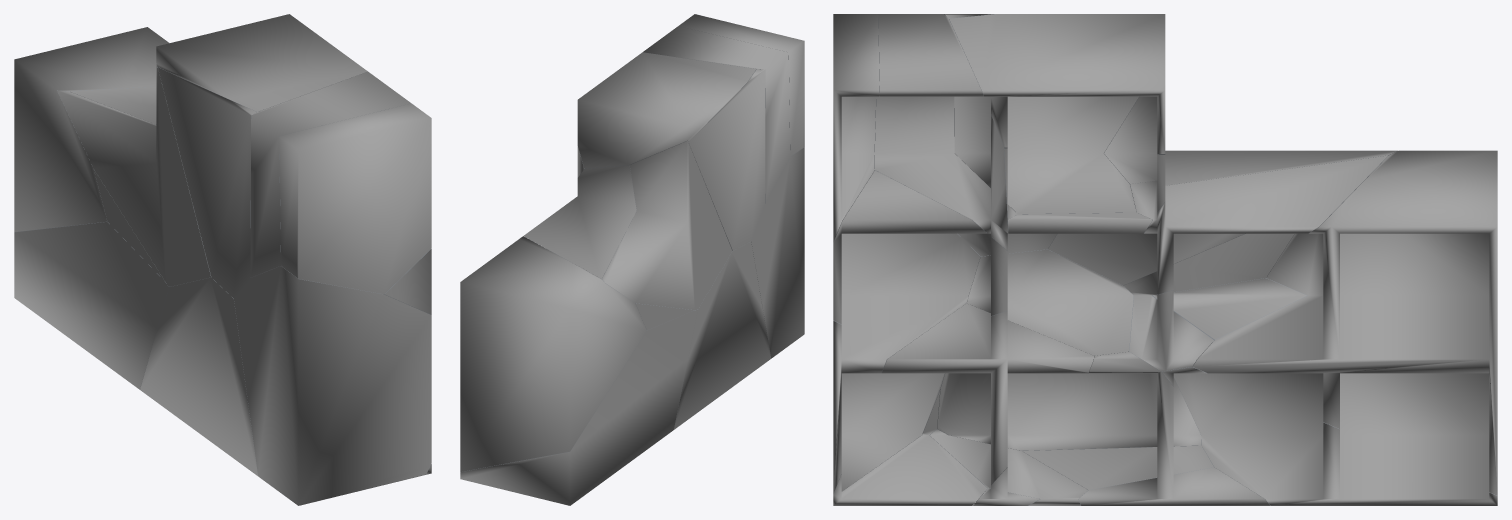
The model's file is SmallBook_Shelf_DEST.fbx.
3 renders of one model, left to right at view 1: azimuth 30°, elevation 25°; view 2: azimuth 150°, elevation 25°; view 3: azimuth 270°, elevation 25°, orthographic. The views are drawn at different scales.
Parts seen in each view (by area): view 1: mesh1329329239_cell.013, mesh1329329239_cell, mesh1329329239_cell.017, mesh1329329239_cell.010, mesh1329329239_cell.002, mesh1329329239_cell.012, mesh1329329239_cell.006, mesh1329329239_cell.011, mesh1329329239_cell.015, mesh1329329239_cell.004, mesh1329329239_cell.021, mesh1329329239_cell.009; view 2: mesh1329329239_cell.017, mesh1329329239_cell.010, mesh1329329239_cell.002, mesh1329329239_cell.011, mesh1329329239_cell.012, mesh1329329239_cell.006, mesh1329329239_cell.013, mesh1329329239_cell.004, mesh1329329239_cell.015, mesh1329329239_cell, mesh1329329239_cell.009; view 3: mesh1329329239_cell.017, mesh1329329239_cell.010, mesh1329329239_cell.012, mesh1329329239_cell.013, mesh1329329239_cell.015, mesh1329329239_cell.006, mesh1329329239_cell.011, mesh1329329239_cell.004, mesh1329329239_cell.002, mesh1329329239_cell.020, mesh1329329239_cell.009, mesh1329329239_cell (+8 smaller).
Boxes of the visible parts, x1,y1,x2,y2 form: mesh1329329239_cell.013: (234, 266, 431, 505); mesh1329329239_cell: (279, 103, 431, 294); mesh1329329239_cell.017: (14, 27, 169, 232); mesh1329329239_cell.010: (14, 222, 169, 389); mesh1329329239_cell.002: (57, 64, 211, 286); mesh1329329239_cell.012: (140, 277, 257, 475); mesh1329329239_cell.006: (158, 67, 256, 298); mesh1329329239_cell.011: (156, 14, 367, 111); mesh1329329239_cell.015: (250, 71, 411, 277); mesh1329329239_cell.004: (70, 86, 156, 124); mesh1329329239_cell.021: (384, 248, 431, 314); mesh1329329239_cell.009: (94, 169, 164, 280); mesh1329329239_cell.017: (460, 236, 646, 471); mesh1329329239_cell.010: (460, 309, 697, 505); mesh1329329239_cell.002: (602, 141, 732, 309); mesh1329329239_cell.011: (577, 52, 756, 168); mesh1329329239_cell.012: (674, 241, 771, 429); mesh1329329239_cell.006: (688, 69, 765, 250); mesh1329329239_cell.013: (751, 147, 804, 358); mesh1329329239_cell.004: (524, 165, 636, 278); mesh1329329239_cell.015: (643, 26, 790, 203); mesh1329329239_cell: (679, 14, 804, 156); mesh1329329239_cell.009: (635, 303, 694, 330); mesh1329329239_cell.017: (1192, 150, 1497, 495); mesh1329329239_cell.010: (1149, 278, 1497, 505); mesh1329329239_cell.012: (937, 249, 1201, 450); mesh1329329239_cell.013: (833, 233, 980, 493); mesh1329329239_cell.015: (874, 14, 1017, 250); mesh1329329239_cell.006: (944, 14, 1138, 256); mesh1329329239_cell.011: (949, 14, 1165, 154); mesh1329329239_cell.004: (1130, 155, 1387, 294); mesh1329329239_cell.002: (1048, 96, 1397, 285); mesh1329329239_cell.020: (882, 303, 1093, 484); mesh1329329239_cell.009: (1123, 233, 1294, 371); mesh1329329239_cell: (833, 14, 879, 241).
Size of the model in its own units: 1.63 by 4.15 by 6.01.
